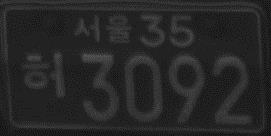0: (124, 52, 165, 123)
2: (210, 55, 256, 129)
3: (78, 50, 122, 124), (138, 12, 166, 50)
5: (169, 12, 195, 50)
9: (167, 51, 207, 125)
서울_O: (73, 12, 134, 48)
허: (19, 50, 68, 100)
